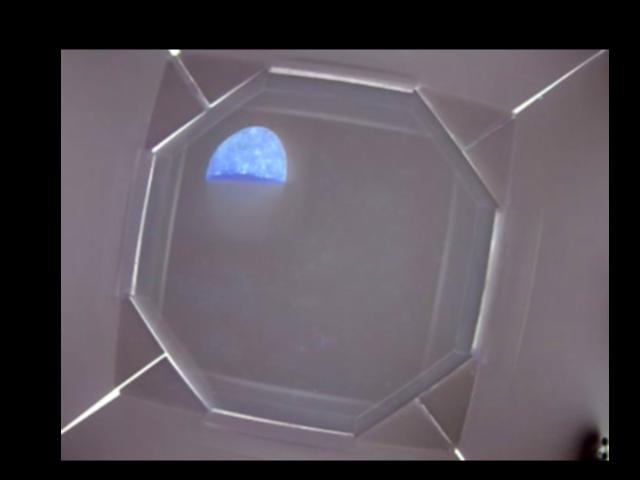Potato: (204, 126, 286, 185)
